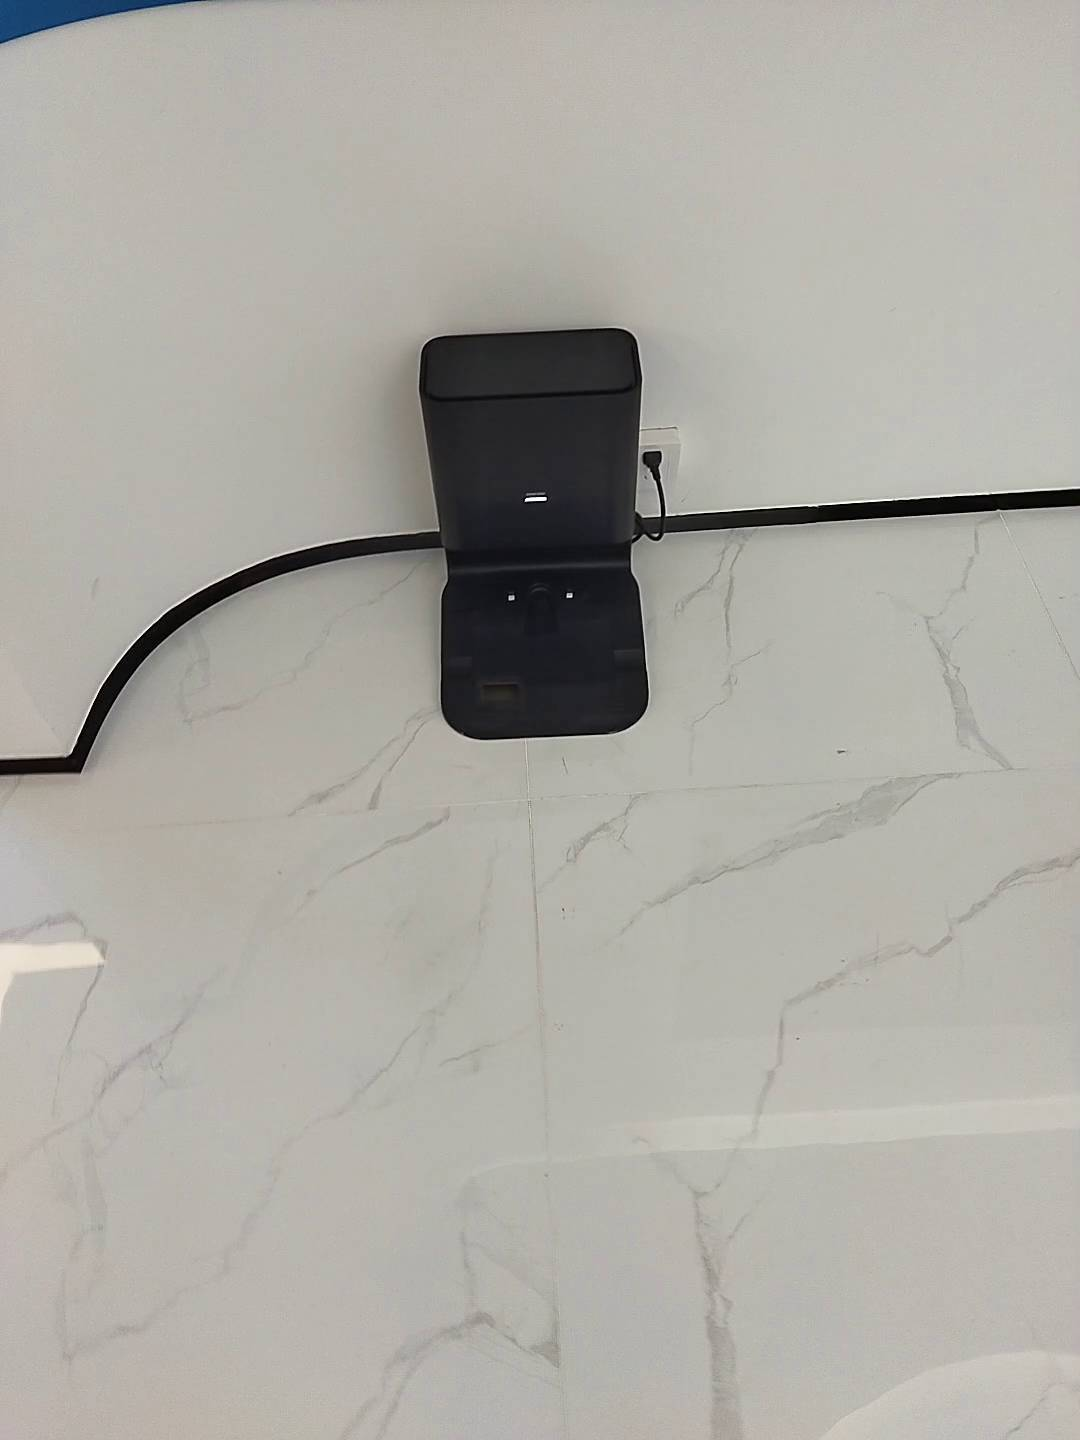dust collecting barrel: (419, 327, 649, 740)
